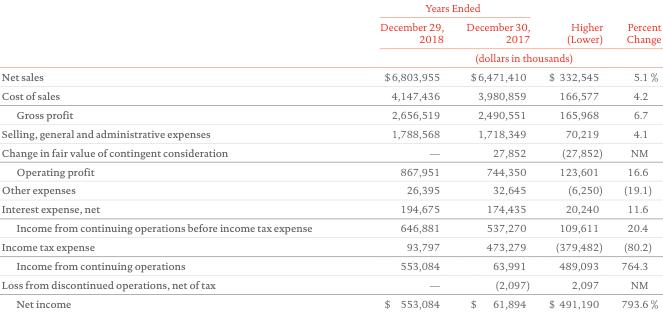table: (0, 1, 660, 309)
table column: (0, 1, 345, 309), (345, 1, 454, 309), (454, 1, 538, 309), (538, 1, 611, 309), (611, 1, 660, 309)
table column header: (0, 1, 660, 66)
table row: (0, 16, 660, 48), (0, 66, 660, 85), (0, 85, 660, 104), (0, 104, 660, 123), (0, 123, 660, 142), (0, 142, 660, 161), (0, 161, 660, 180), (0, 180, 660, 199), (0, 199, 660, 218), (0, 218, 660, 237), (0, 237, 660, 256), (0, 274, 660, 293), (0, 48, 660, 66), (0, 256, 660, 274), (0, 293, 660, 309), (0, 1, 660, 16)
table spanning cell: (345, 48, 660, 66), (538, 1, 611, 48), (345, 1, 538, 16), (611, 1, 660, 48)
